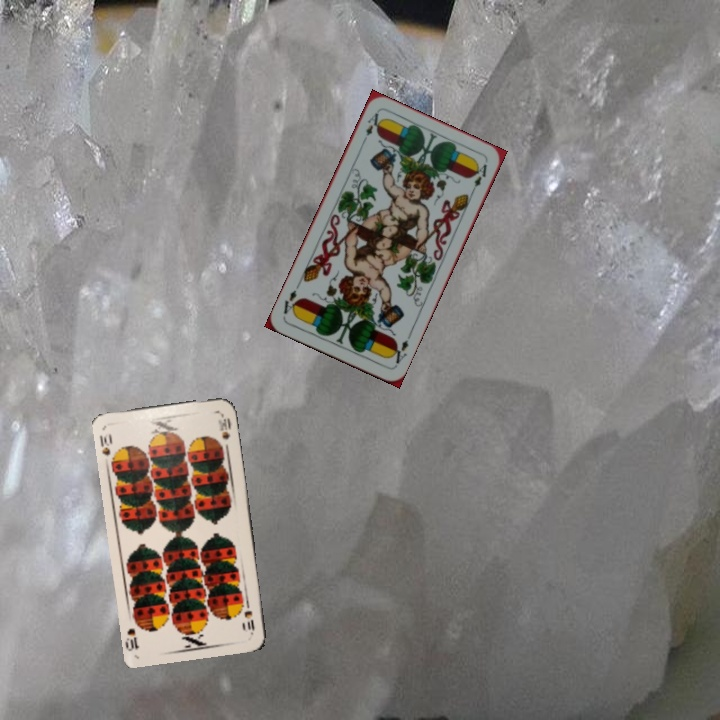EA: (387, 330, 414, 369), (358, 108, 384, 147)
S10: (241, 596, 257, 637), (96, 429, 115, 458)
